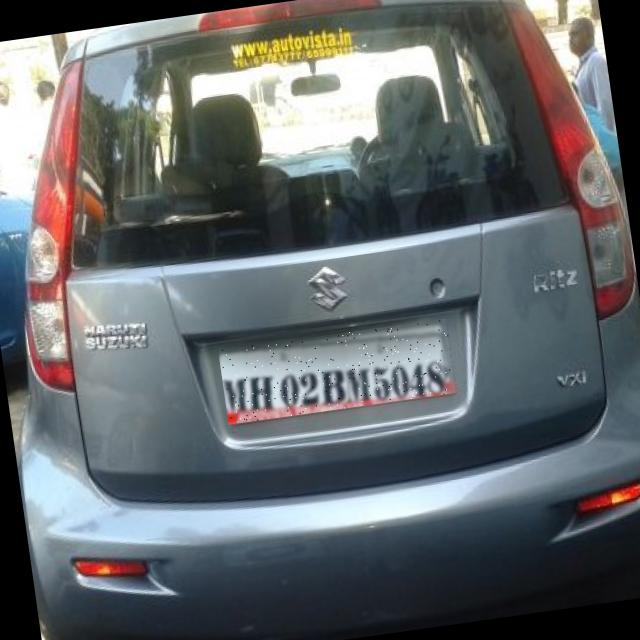Plate: (220, 320, 458, 426)
